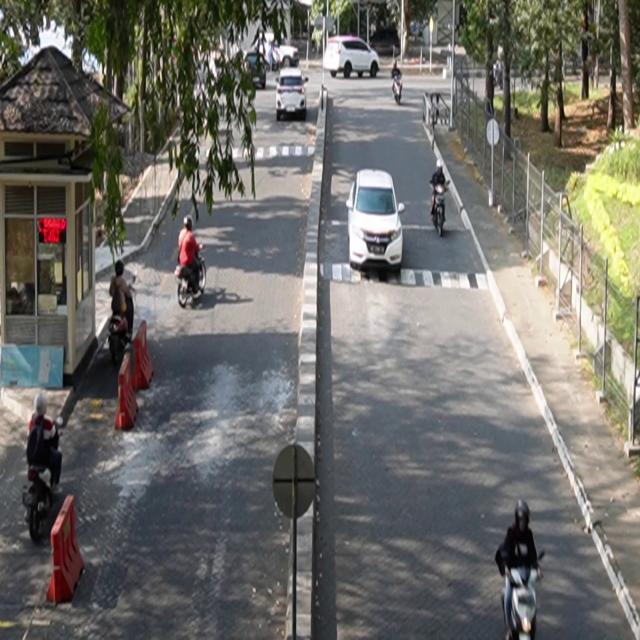car: (347, 169, 406, 272), (276, 68, 310, 121)
